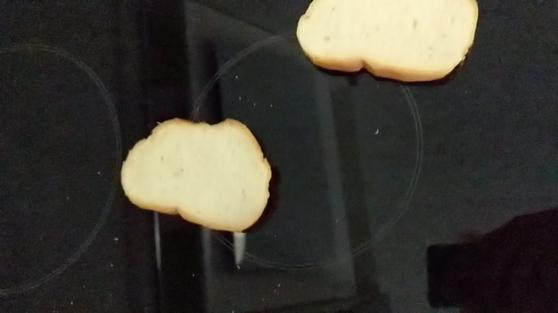white_bread: (118, 117, 272, 233), (295, 1, 480, 79)
